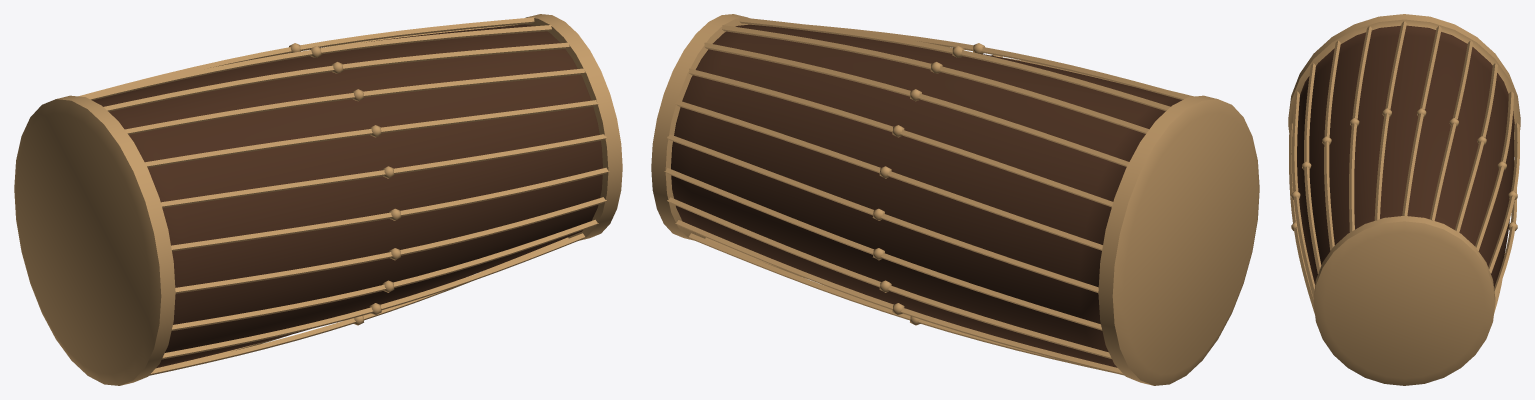
Rendered from Kendhang.fbx.
3 views of the same model, side by side, from view 1: azimuth 30°, elevation 25°; view 2: azimuth 150°, elevation 25°; view 3: azimuth 270°, elevation 25° (orthographic). The views are drawn at different scales.
Parts seen in each view (by area): view 1: Kendhang_Mesh; view 2: Kendhang_Mesh; view 3: Kendhang_Mesh.
Boxes of the visible parts, x1,y1,x2,y2 form: Kendhang_Mesh: (14, 14, 622, 385); Kendhang_Mesh: (651, 14, 1259, 385); Kendhang_Mesh: (1288, 14, 1520, 385).
Size of the model in its own units: 0.612 by 0.32 by 0.32.
